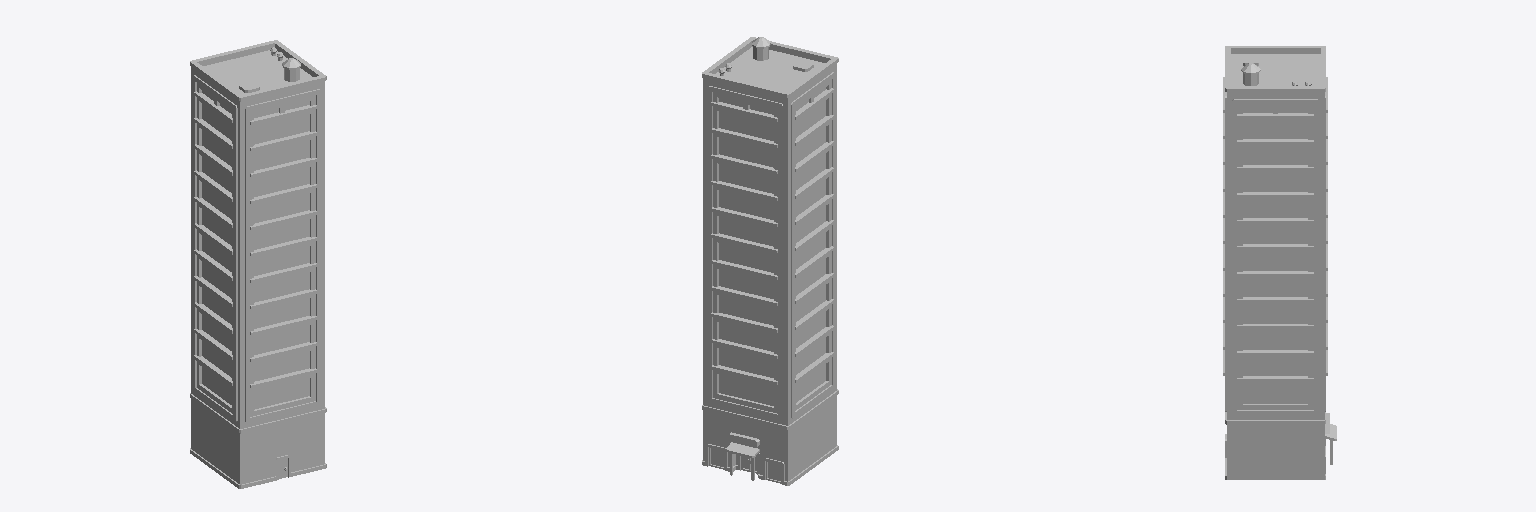
File: commercial_building-skyscraper-d.obj
3 renders of one model, left to right at view 1: azimuth 30°, elevation 25°; view 2: azimuth 150°, elevation 25°; view 3: azimuth 270°, elevation 25°, orthographic.
Parts seen in each view (by area): view 1: building-skyscraper-d; view 2: building-skyscraper-d; view 3: building-skyscraper-d.
Part boxes in pixels (x1,y1,x2,y2): building-skyscraper-d: (190,40,326,488); building-skyscraper-d: (702,37,838,485); building-skyscraper-d: (1223,46,1336,479).
Bounding box in the file's own units: 1.28 × 5.47 × 1.39.